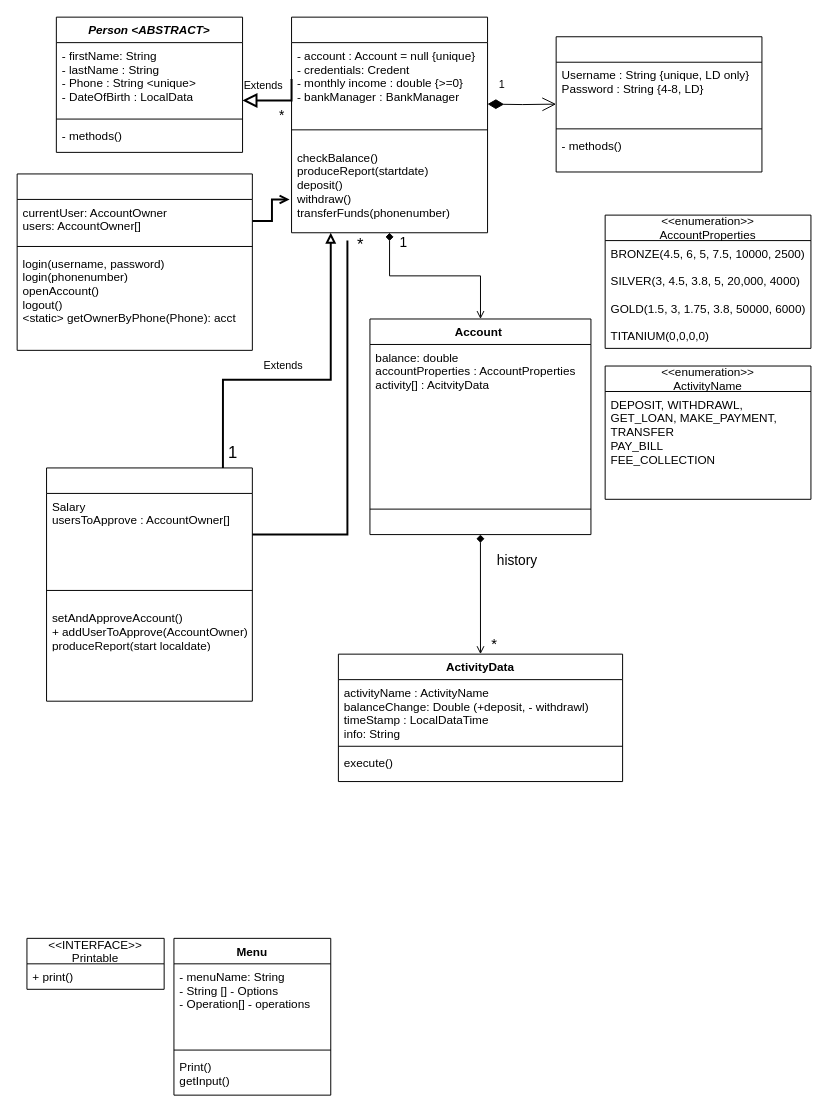
Image size: 828x1115. Some labels were removed from this diagram. Each missing label, with the box of its shape:
AccountOwner: (291, 16, 488, 233)
AppManager: (16, 173, 252, 350)
BankManager: (46, 467, 252, 701)
Credentials: (555, 36, 762, 172)
